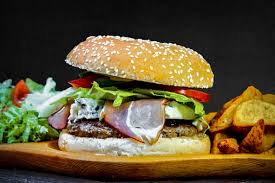hamburger: (64, 33, 217, 156)
